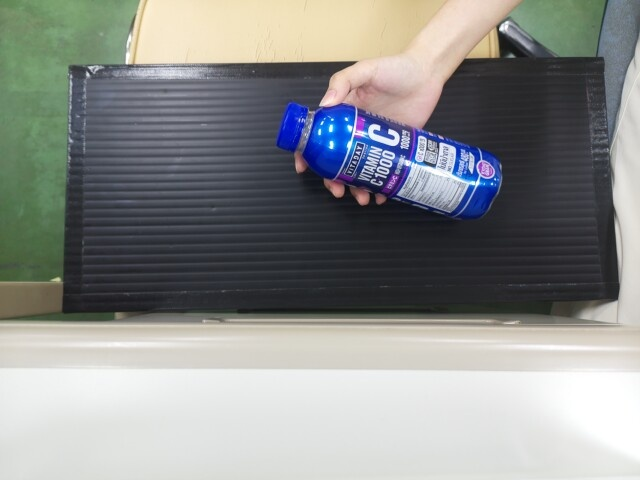plastic_bottle: (274, 104, 502, 223)
